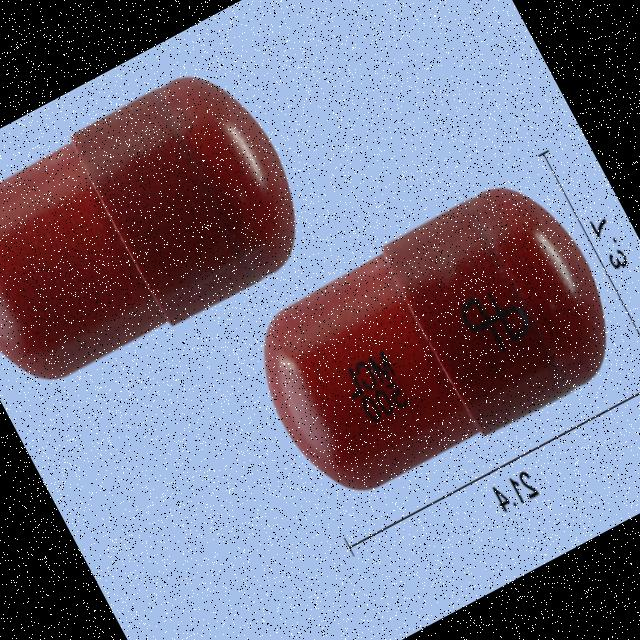Cephamethyl Cap: (221, 153, 640, 522), (0, 45, 331, 415)
